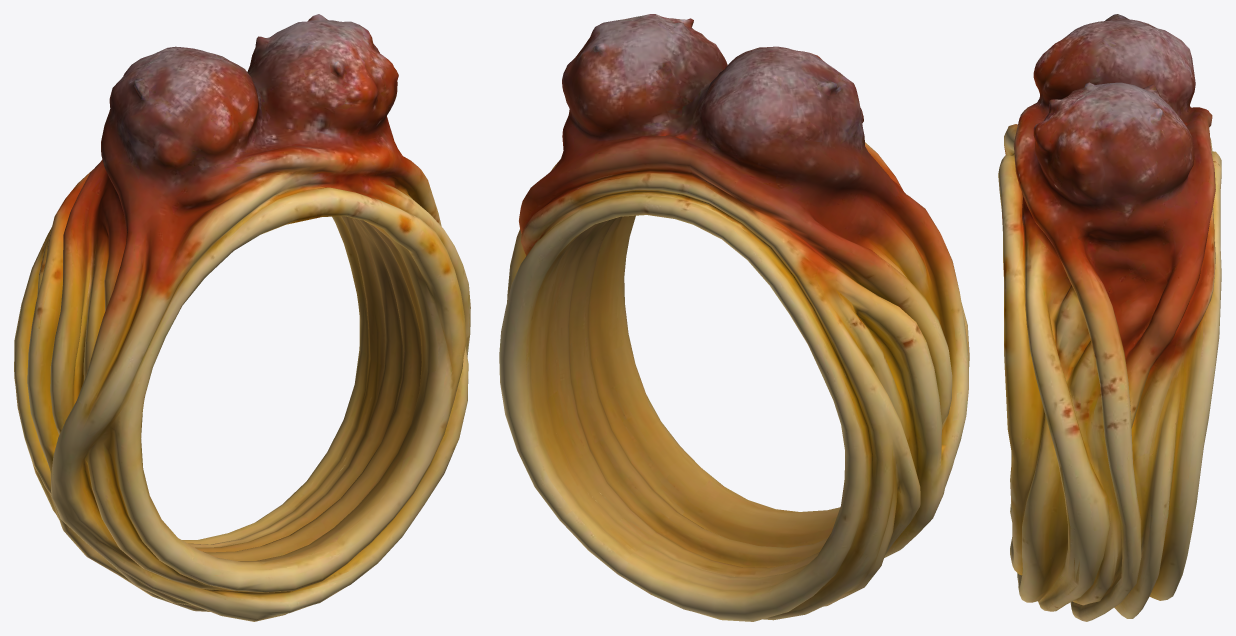
Rendered from spaghetti-ring.glb.
3 views of the same model, side by side, from view 1: azimuth 30°, elevation 25°; view 2: azimuth 150°, elevation 25°; view 3: azimuth 270°, elevation 25° (orthographic). The views are drawn at different scales.
Parts seen in each view (by area): view 1: node_0_n3d; view 2: node_0_n3d; view 3: node_0_n3d.
Part boxes in pixels (x1,y1,x2,y2): node_0_n3d: (14,14,470,621); node_0_n3d: (499,14,969,621); node_0_n3d: (998,14,1221,621).
Bounding box in the file's own units: 1.08 × 1.37 × 0.5065.
1 material, 1 textured.
